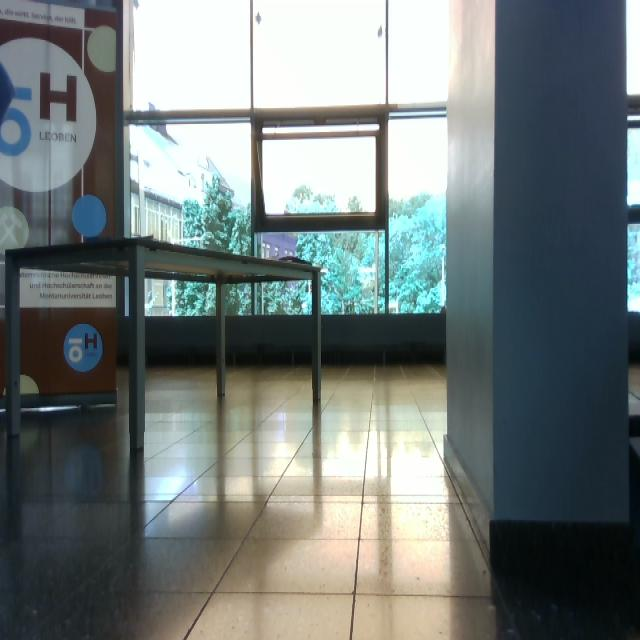door: (1, 1, 125, 438)
light bulb: (72, 195, 107, 239), (87, 25, 117, 74), (1, 206, 30, 256), (146, 291, 158, 315), (255, 12, 262, 25), (378, 25, 384, 38), (301, 301, 309, 309)
pillar: (444, 1, 631, 540)
table: (4, 234, 330, 456)
tiled floor: (2, 361, 501, 638)
window: (123, 1, 450, 321)
